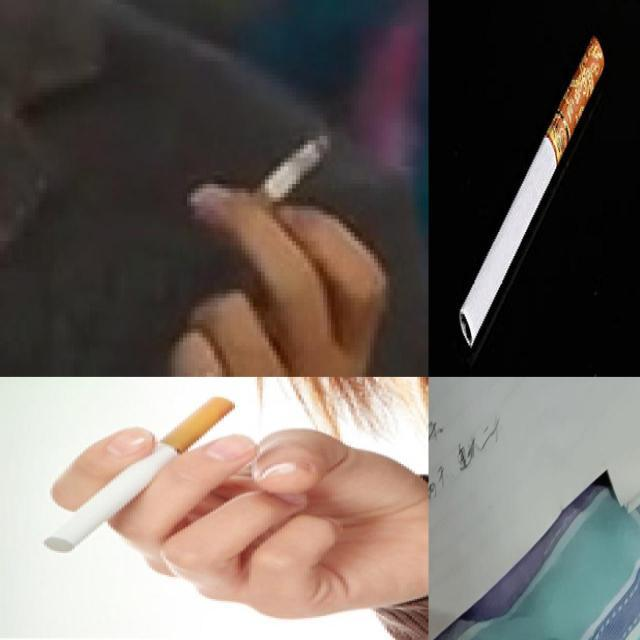smoking: (458, 38, 606, 350), (42, 394, 240, 552), (234, 133, 332, 227)
